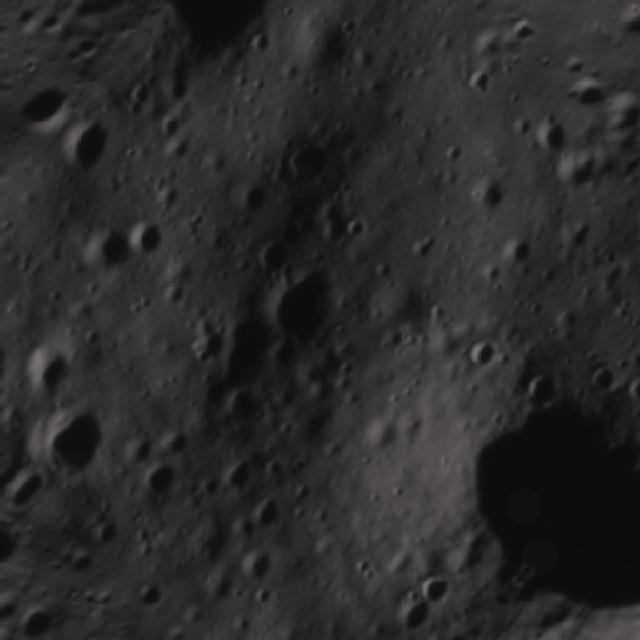crater: (166, 282, 314, 433), (251, 241, 366, 359), (30, 386, 136, 494), (257, 114, 348, 204), (46, 103, 128, 186), (7, 325, 84, 404), (223, 530, 291, 598), (452, 160, 520, 228), (0, 304, 34, 439), (113, 204, 181, 271), (509, 352, 576, 419), (126, 448, 192, 514), (241, 222, 305, 288), (450, 321, 515, 385), (210, 439, 272, 503), (487, 220, 548, 282), (218, 168, 278, 228), (406, 556, 466, 616), (524, 105, 582, 164), (240, 489, 298, 548), (458, 57, 500, 98), (615, 362, 640, 418), (279, 624, 338, 640), (403, 0, 435, 11)
